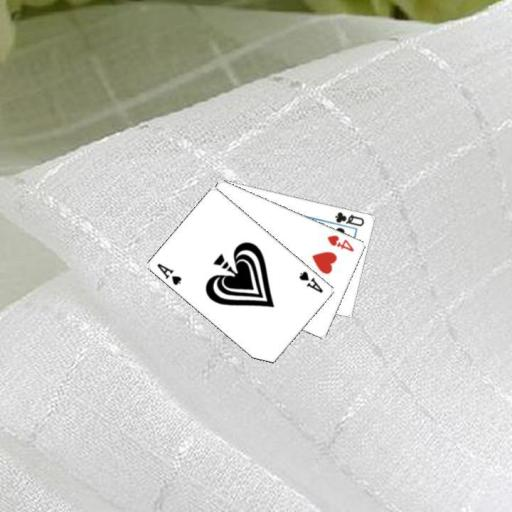4H: (324, 232, 356, 253)
AS: (154, 260, 184, 287), (297, 268, 325, 294)
QC: (332, 209, 366, 228)
